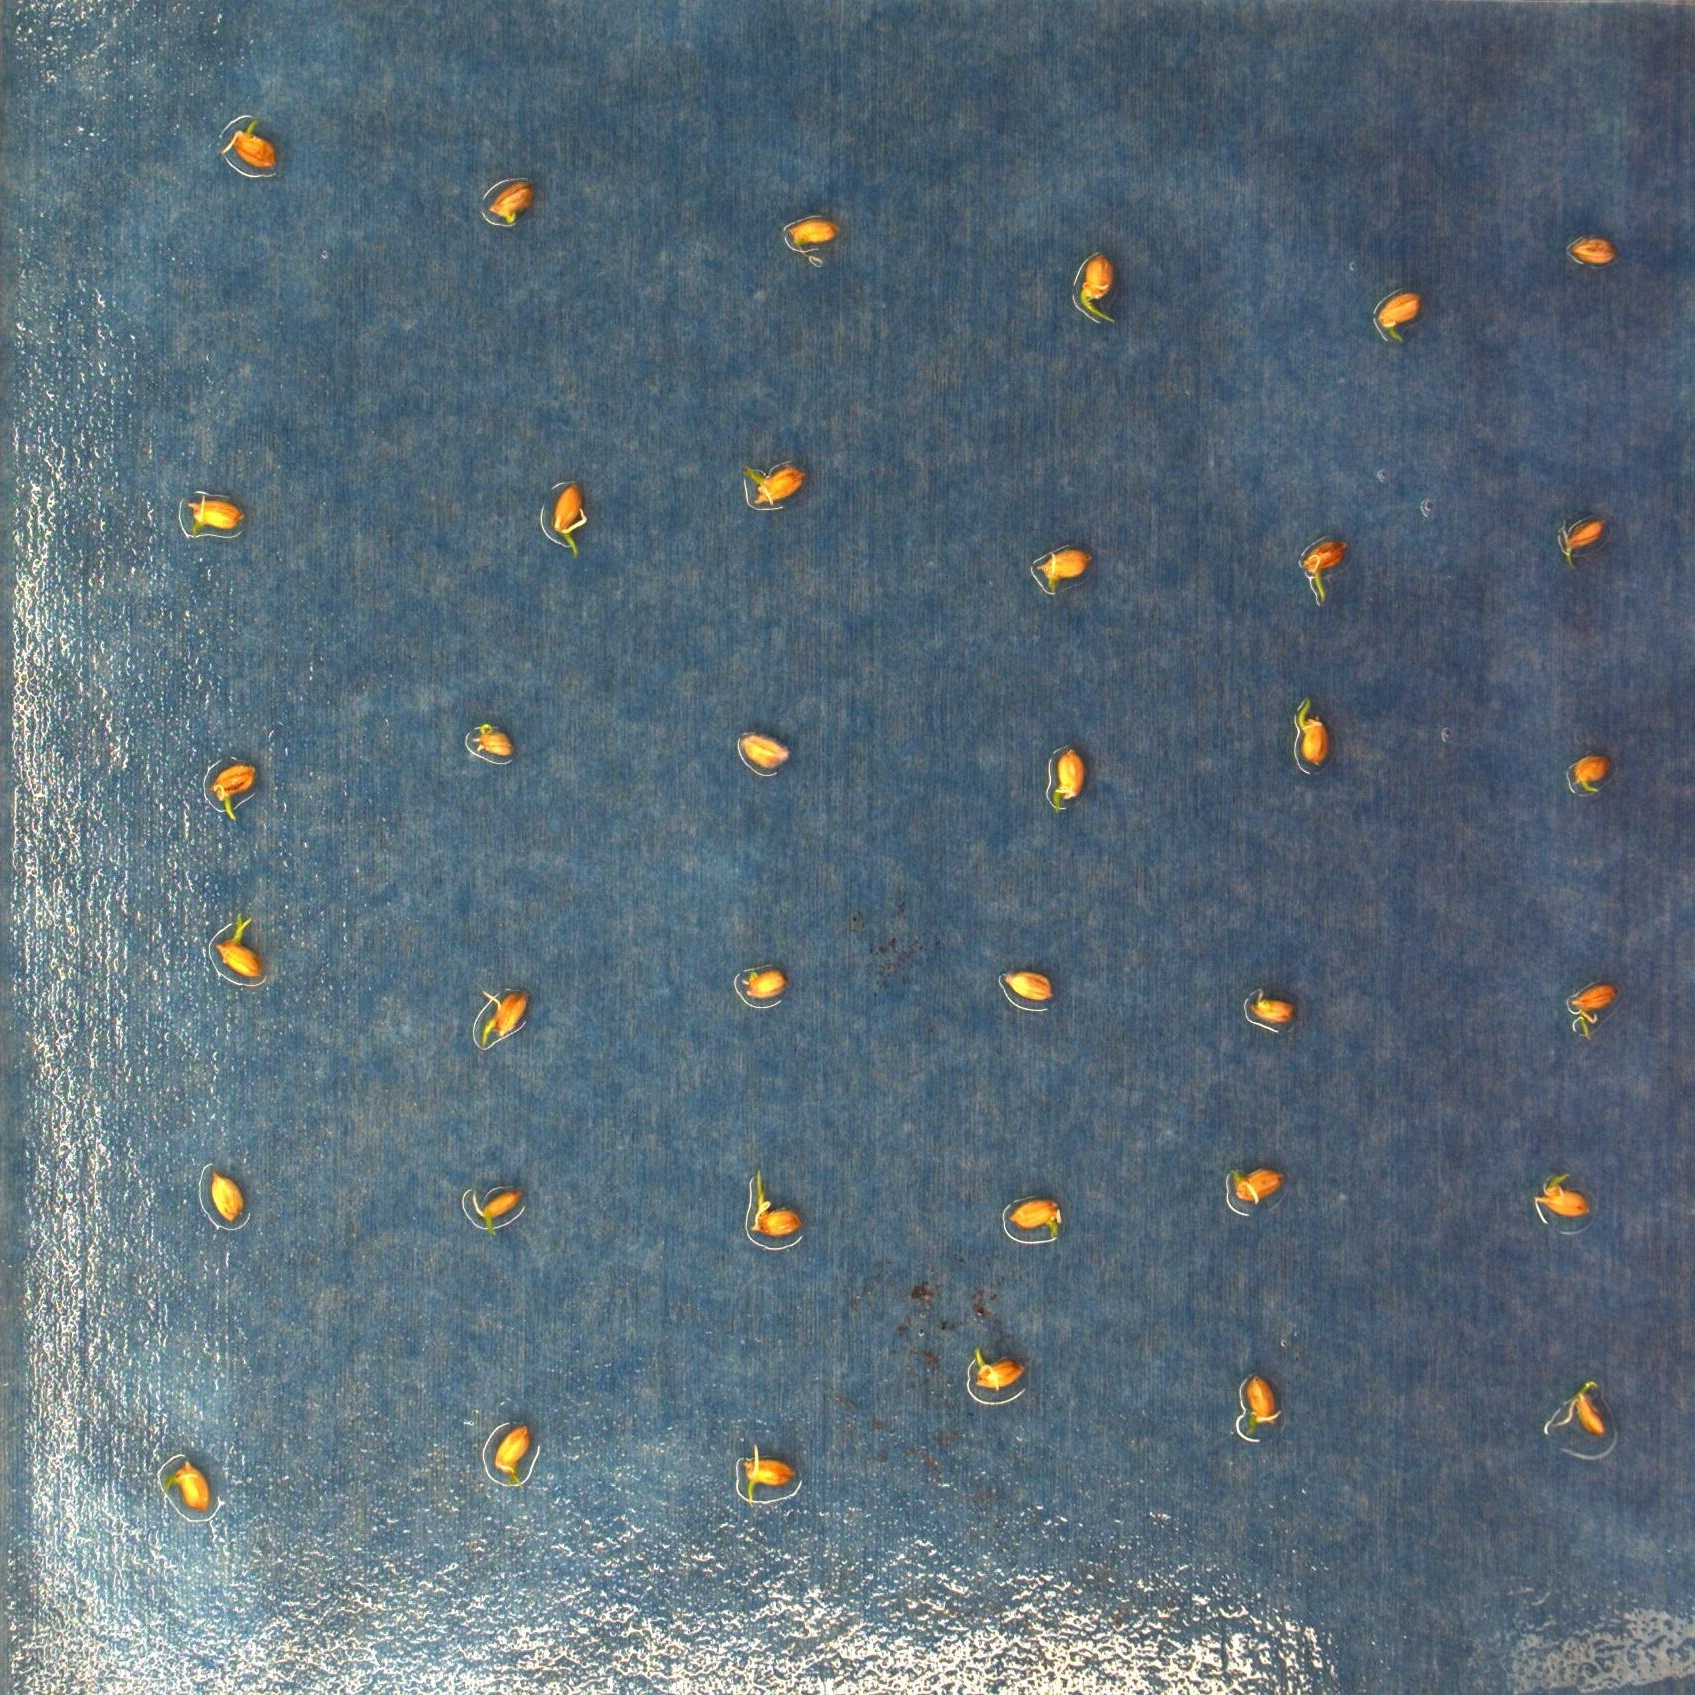not sprout: (1538, 1380, 1617, 1450), (1220, 1153, 1298, 1222), (211, 107, 286, 174), (733, 458, 816, 514), (206, 751, 269, 826), (160, 1450, 227, 1518), (1226, 1371, 1287, 1444), (1558, 979, 1624, 1043), (486, 1420, 540, 1495), (466, 986, 536, 1043), (1367, 282, 1431, 345), (1288, 695, 1336, 776), (1003, 1189, 1066, 1250), (463, 1180, 531, 1236), (1038, 744, 1090, 818), (165, 492, 244, 540), (1024, 545, 1101, 594), (1551, 509, 1614, 567), (477, 179, 543, 230), (961, 1347, 1024, 1399), (1237, 981, 1304, 1029), (202, 1169, 258, 1226), (736, 723, 792, 781), (726, 958, 787, 1009), (1534, 1167, 1586, 1222), (1298, 532, 1350, 584), (469, 712, 515, 770), (997, 965, 1055, 1010), (1565, 225, 1617, 272), (785, 213, 840, 255), (1568, 750, 1611, 801)
sprout: (1063, 247, 1127, 340), (737, 1166, 804, 1246), (540, 472, 598, 560), (200, 913, 272, 981), (726, 1440, 796, 1506)
